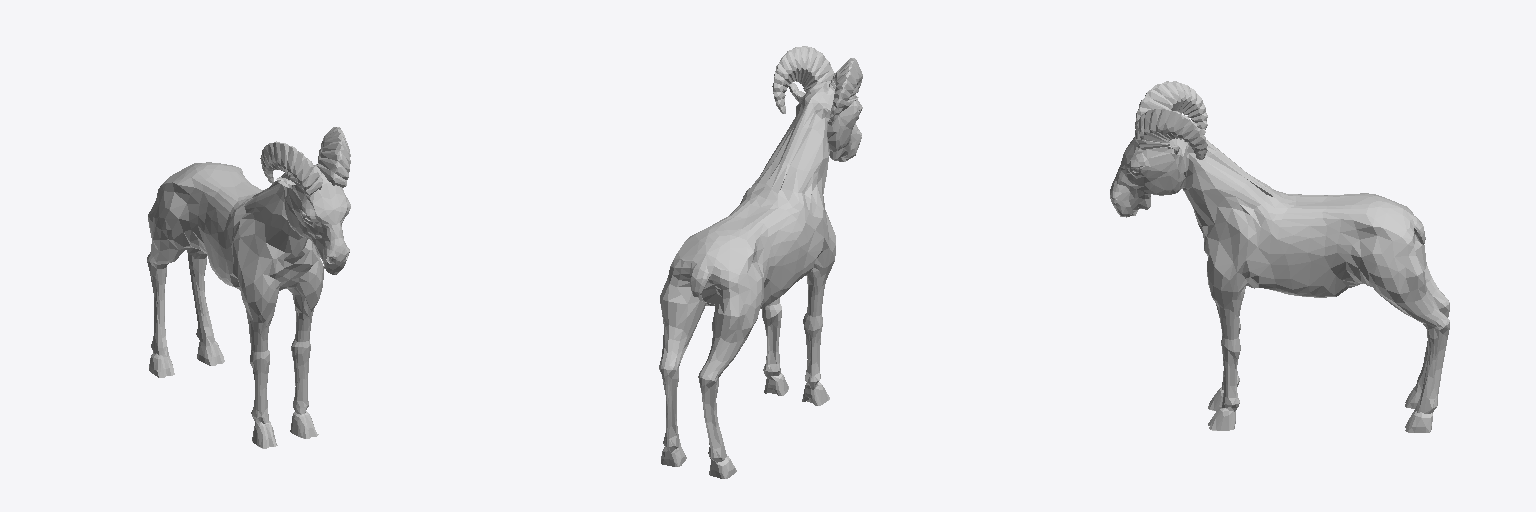
Rendered from RAM.OBJ.
The picture shows the model from 3 angles: view 1: azimuth 30°, elevation 25°; view 2: azimuth 150°, elevation 25°; view 3: azimuth 270°, elevation 25°; orthographic projection.
Parts seen in each view (by area): view 1: ram_body; view 2: ram_body; view 3: ram_body.
Part boxes in pixels (x1,y1,x2,y2): ram_body: (147, 127, 350, 448); ram_body: (659, 46, 862, 478); ram_body: (1110, 81, 1449, 432).
Size of the model in its own units: 0.3915 by 1.37 by 1.31.